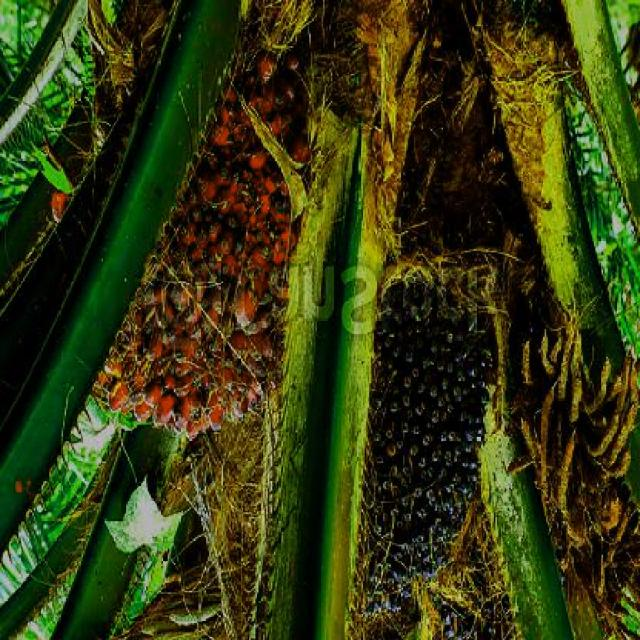palm-oil: (62, 12, 315, 431), (356, 263, 502, 622)
